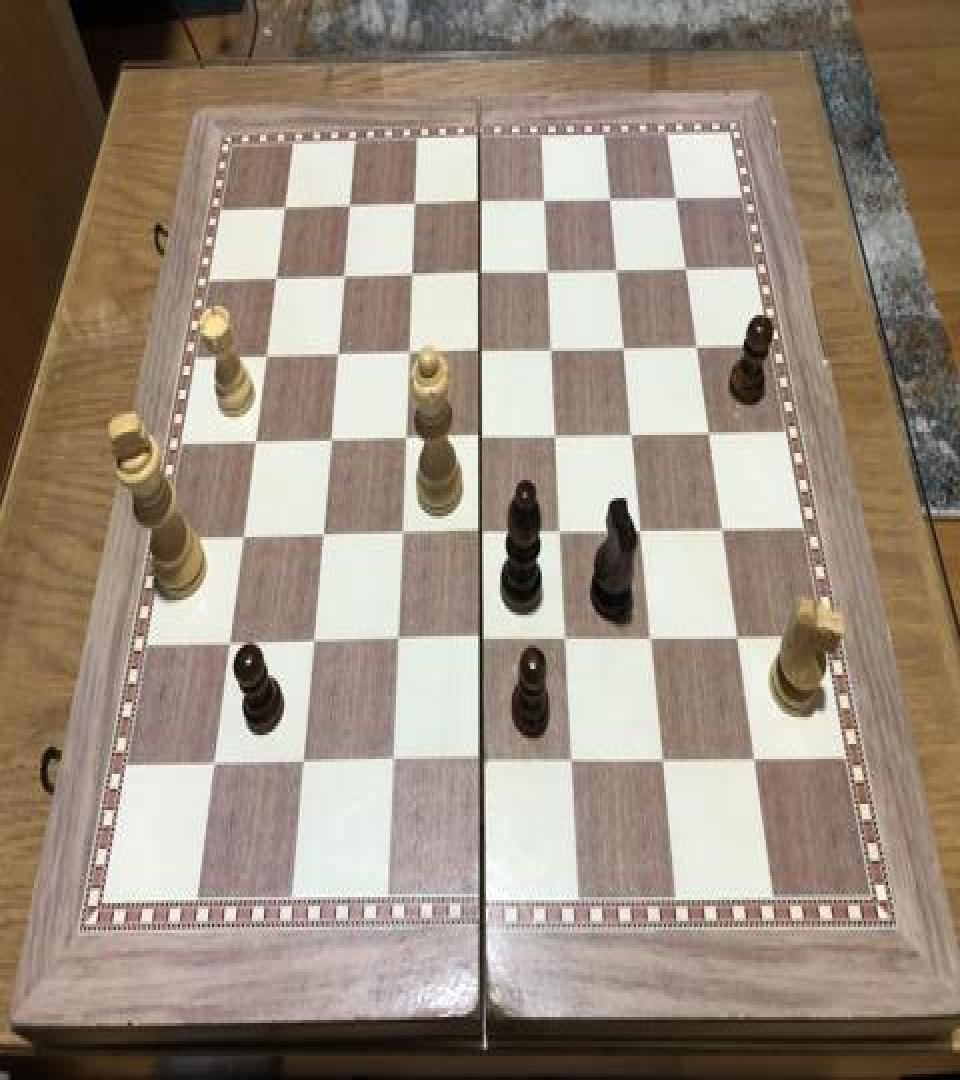xcorner: (473, 616, 497, 653), (744, 733, 768, 770), (384, 739, 408, 776), (204, 742, 228, 779), (664, 176, 688, 212), (599, 177, 623, 213), (535, 178, 559, 214), (470, 180, 494, 216), (405, 180, 429, 216), (340, 182, 364, 218), (276, 183, 300, 219), (674, 246, 698, 282), (606, 248, 630, 284), (538, 249, 562, 285), (470, 250, 494, 286), (403, 250, 427, 286), (335, 252, 359, 288), (267, 254, 291, 290), (685, 324, 709, 360), (614, 324, 638, 360), (542, 326, 566, 362), (471, 327, 495, 363), (328, 330, 352, 366), (257, 332, 281, 368), (697, 410, 721, 446), (622, 411, 646, 447), (396, 414, 420, 450), (321, 416, 345, 452), (246, 417, 270, 453), (711, 506, 735, 542), (632, 506, 656, 542), (552, 507, 576, 543), (472, 508, 496, 544), (393, 510, 417, 546), (313, 512, 337, 548), (233, 513, 257, 549), (727, 612, 751, 648), (642, 614, 666, 650), (558, 615, 582, 651), (389, 618, 413, 654), (304, 620, 328, 656), (220, 621, 244, 657), (654, 735, 678, 771), (564, 736, 588, 772), (474, 738, 498, 774), (294, 741, 318, 777), (400, 329, 424, 364), (547, 413, 571, 448), (472, 413, 496, 448)
